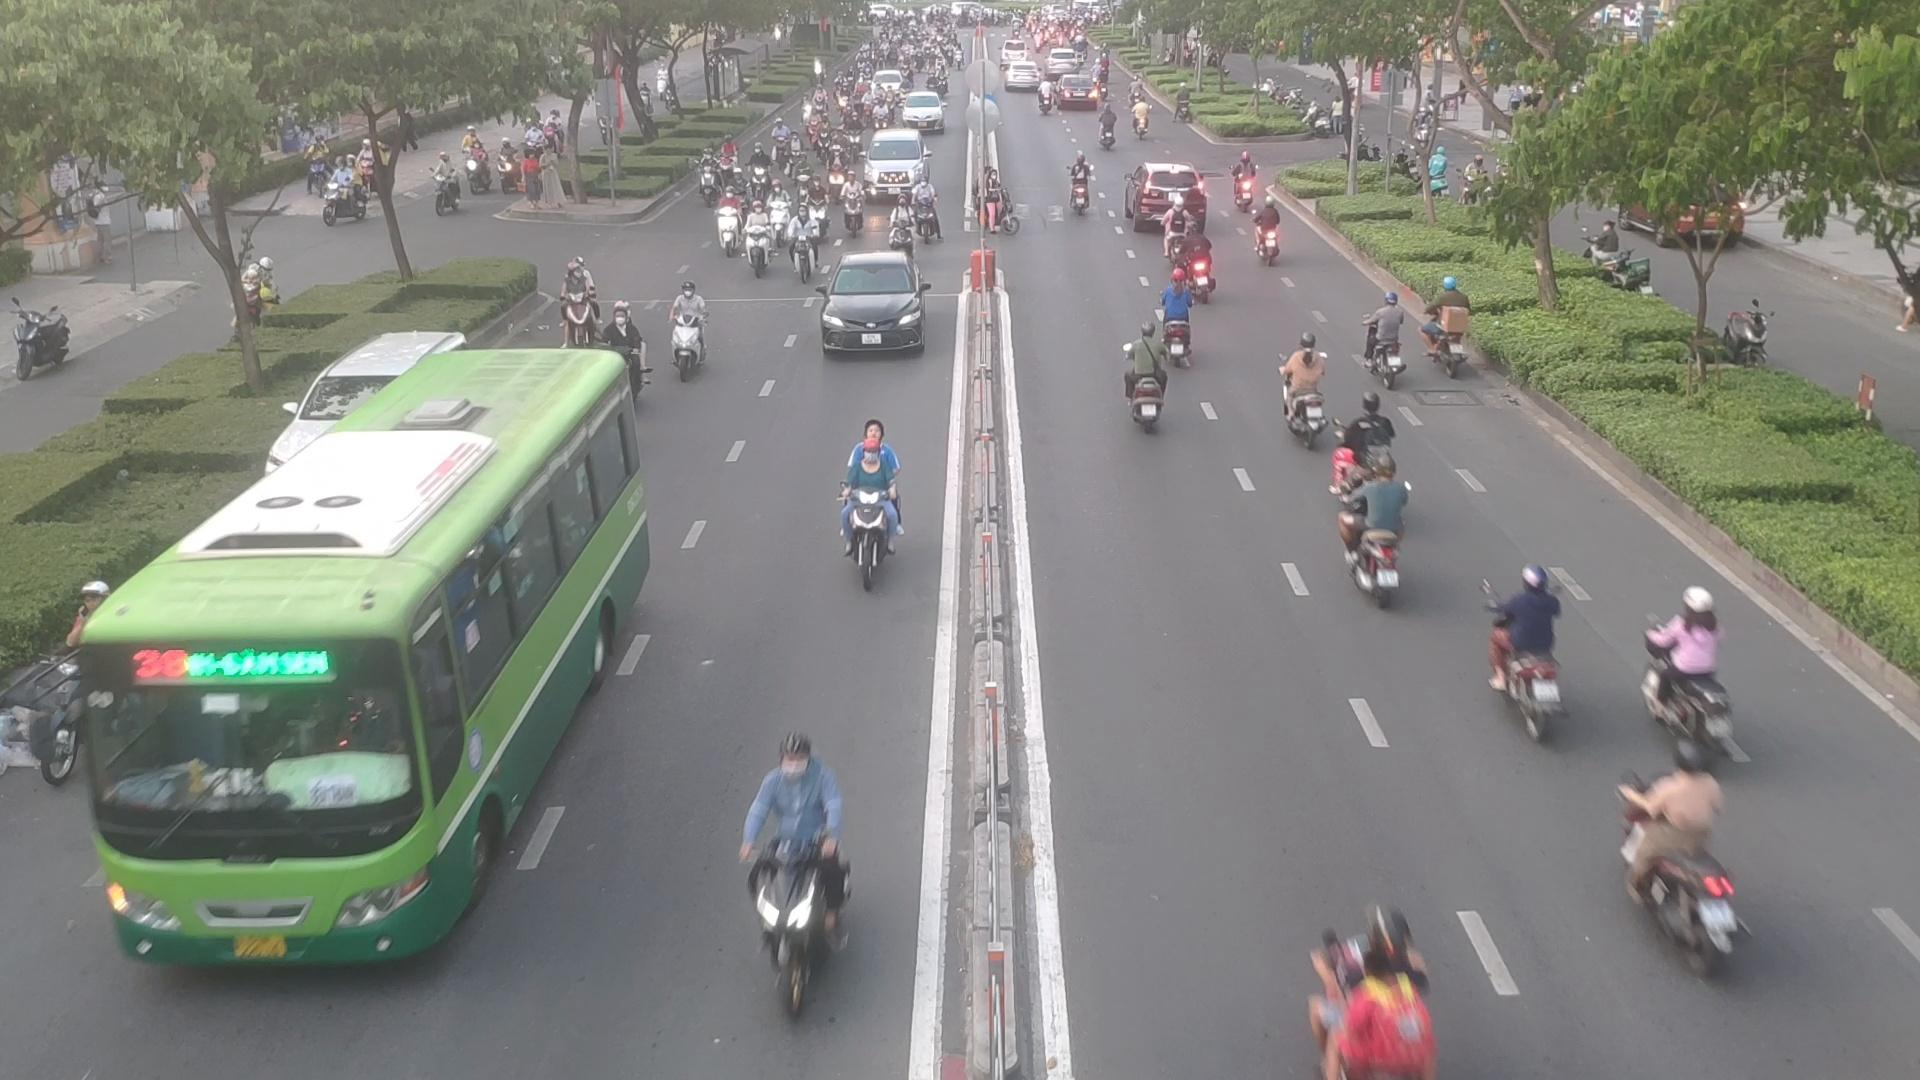bus: (82, 351, 640, 975)
car: (810, 258, 931, 357), (1127, 164, 1207, 235)
motorbike: (738, 745, 860, 1015), (1625, 765, 1754, 978), (1295, 905, 1436, 1076), (1481, 570, 1573, 740), (1327, 452, 1410, 604), (829, 425, 905, 585), (1646, 653, 1739, 766), (1118, 323, 1182, 426), (1420, 266, 1480, 376), (1273, 338, 1331, 447), (661, 284, 711, 375), (1360, 289, 1407, 381), (555, 262, 605, 349), (1160, 273, 1199, 364), (1174, 237, 1218, 306), (1249, 193, 1287, 269), (1059, 160, 1102, 222), (899, 185, 940, 247), (740, 219, 775, 278), (835, 178, 868, 239), (713, 199, 746, 256)
